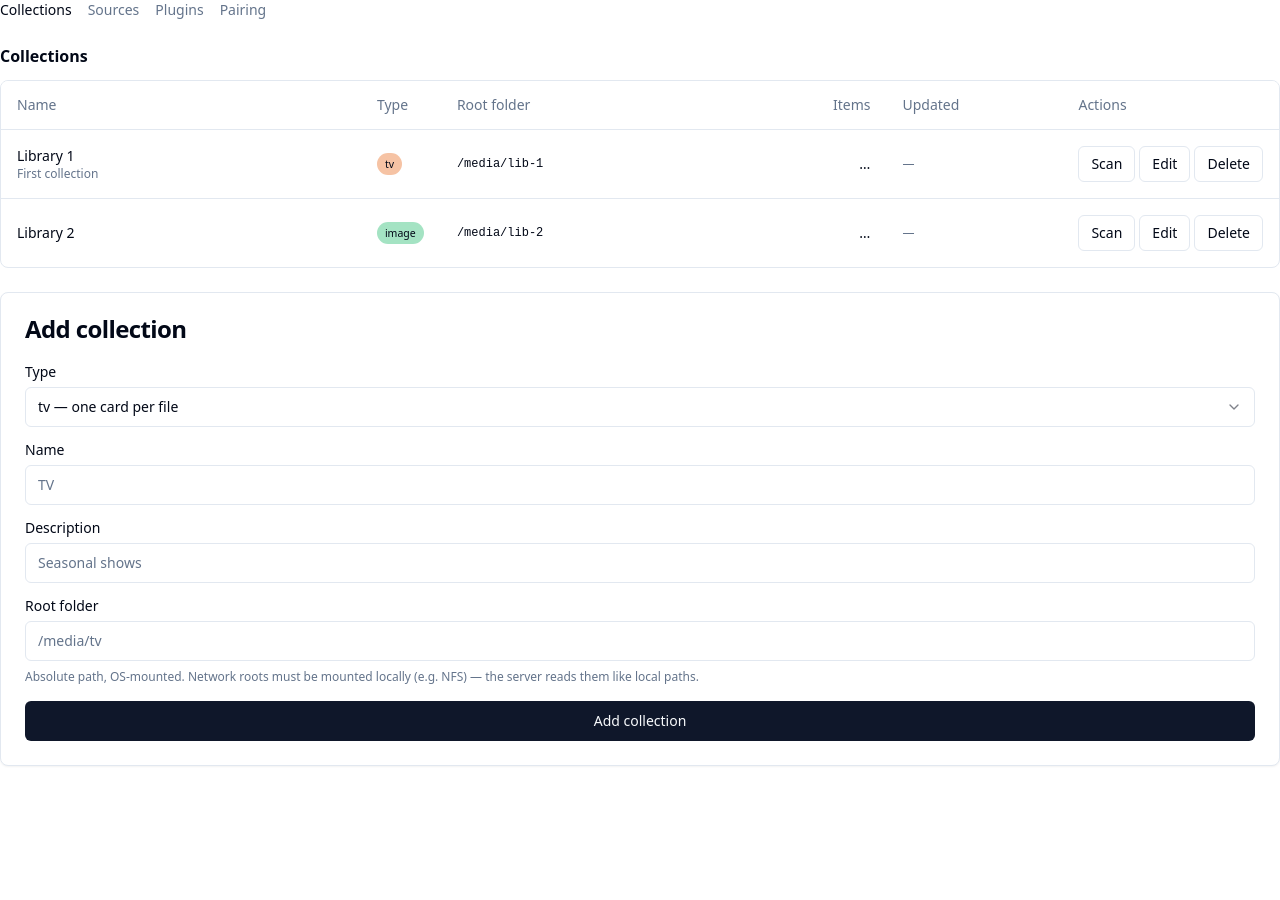
Test: Collections — admin panel (group 6) › edit overlay PATCHes {display_name, description} and re-fetches the table on success
The width and height of the screenshot is (1280, 900).
Expected: the text "Library 1" is shown, [17,146,74,164]
Open the overlay on row 1.
Click the button "Edit" in the row of "Library 1" at {"x": 1165, "y": 164}, box [1139,146,1190,182]
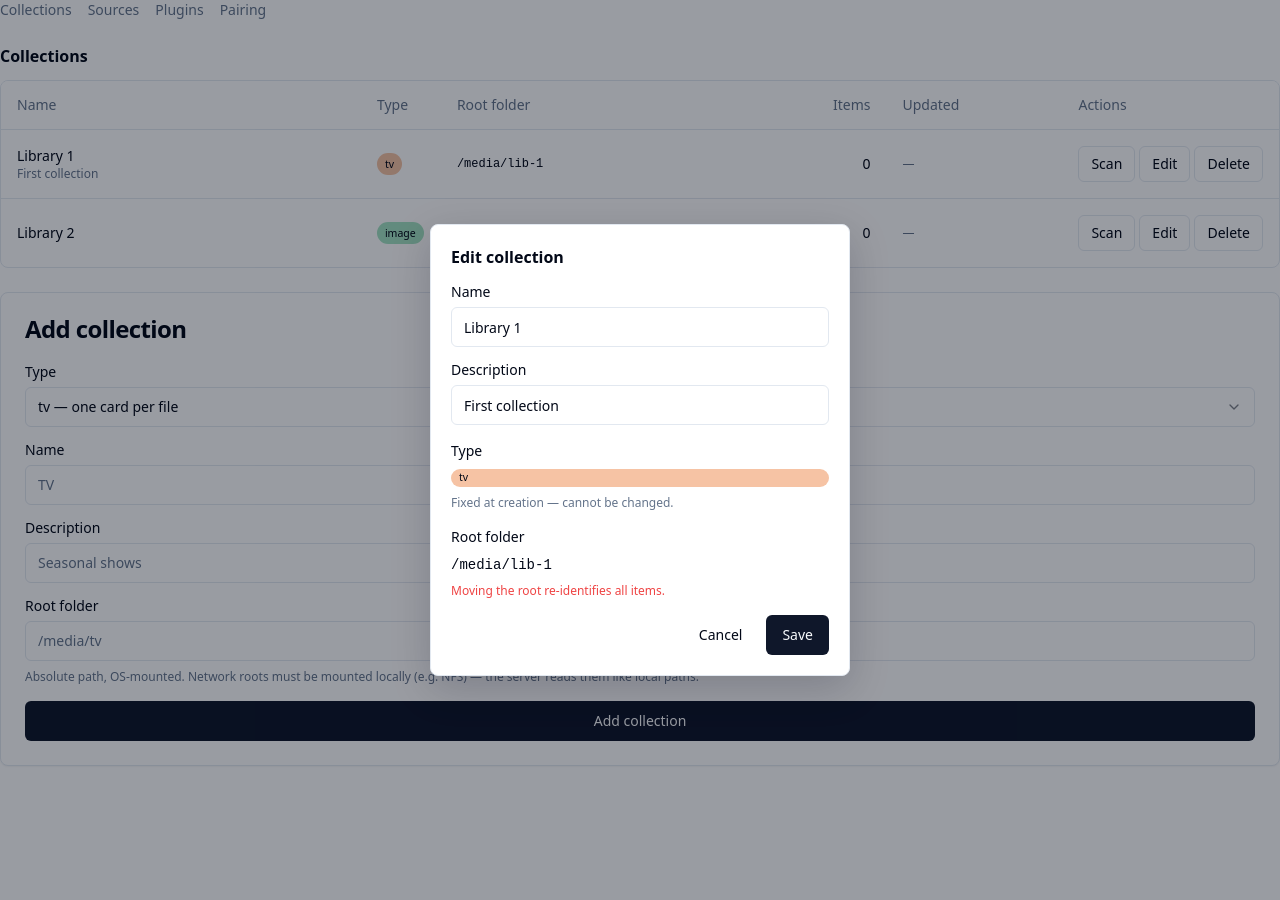
Expected: the text "/media/lib-1" is shown, [451,557,552,573]
Expected: the text "Moving the root re-identifies all items." is shown, [451,582,665,599]
Replace the text in the field labelled "Name" with "Renamed" at {"x": 640, "y": 327}, box [451,307,829,347]
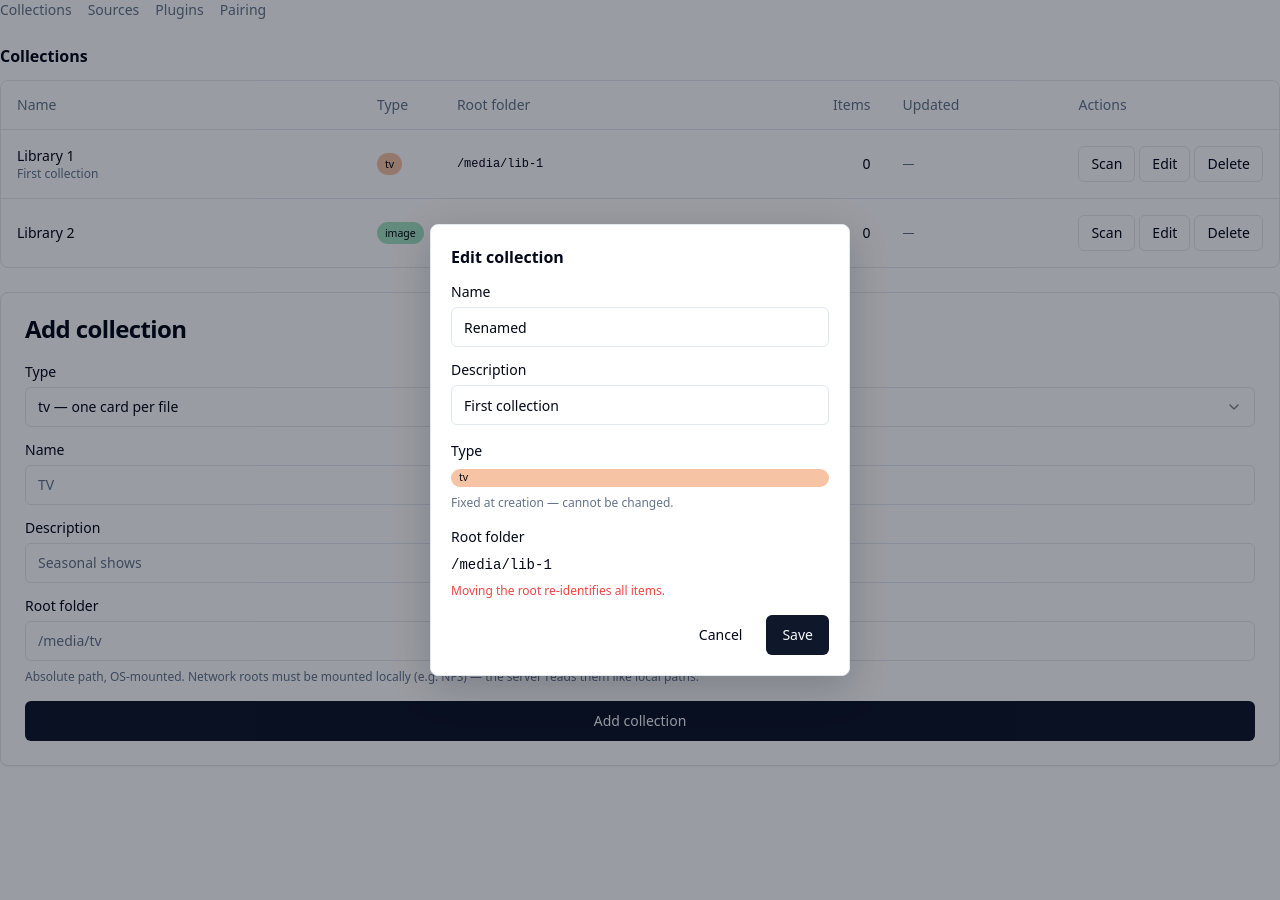
Replace the text in the field labelled "Description" with "New desc" at {"x": 640, "y": 405}, box [451,385,829,425]
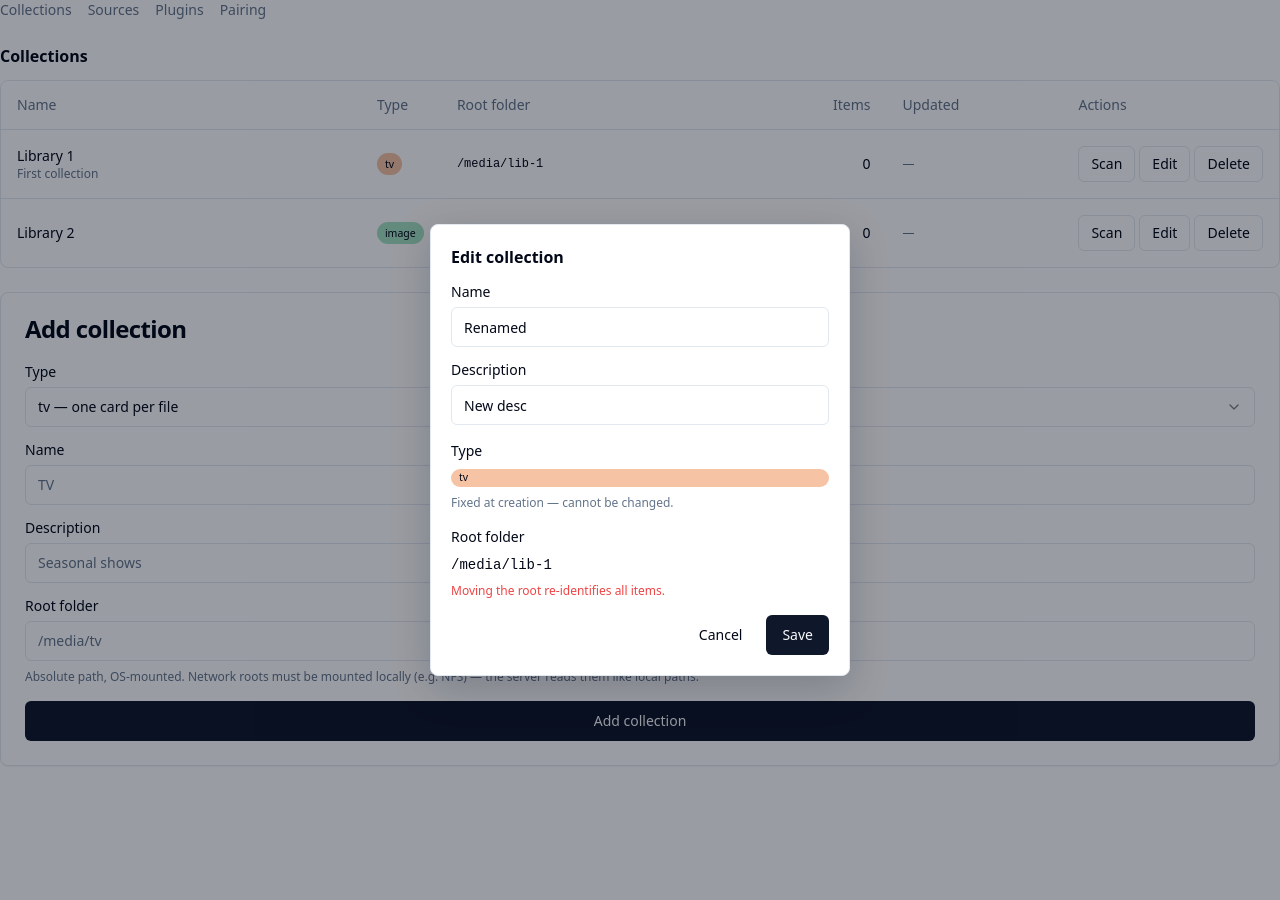
Click the button "Save" at {"x": 798, "y": 635}, box [766,615,829,655]
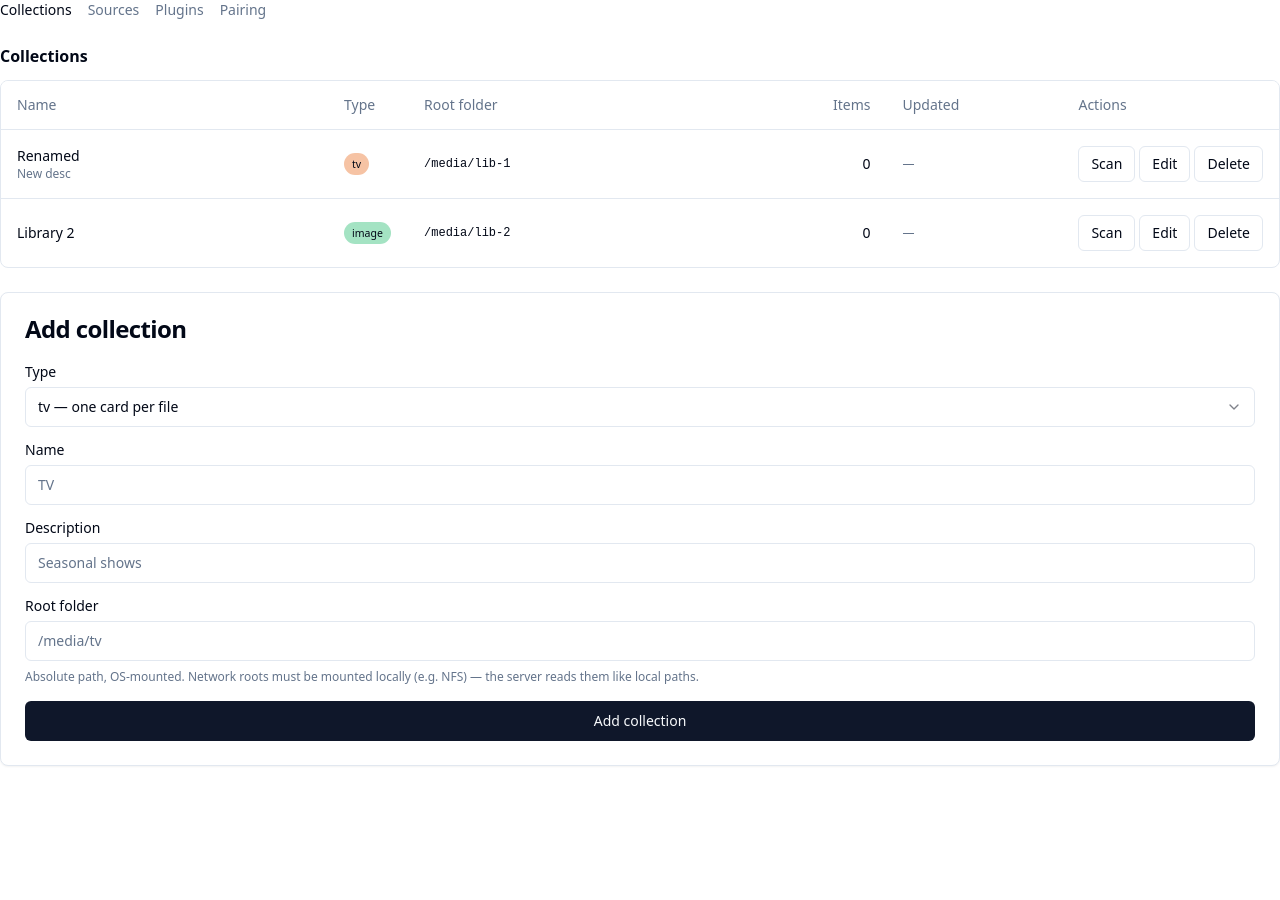
Expected: the dialog is gone
Expected: the text "Renamed" is shown, [17,146,80,164]
